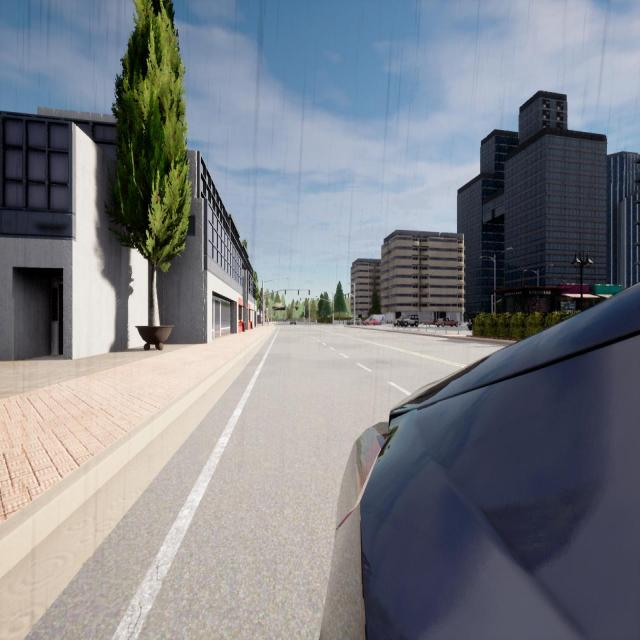Vehicle: (321, 284, 639, 638), (394, 315, 418, 327), (363, 314, 385, 325), (437, 318, 458, 327), (468, 316, 475, 330), (349, 318, 361, 325), (290, 319, 296, 325)
traffic_light: (300, 298, 302, 301), (298, 290, 299, 295), (309, 290, 310, 295), (348, 293, 349, 298), (345, 294, 346, 298), (332, 310, 334, 312), (285, 290, 286, 294), (308, 298, 309, 301), (318, 298, 318, 302)
